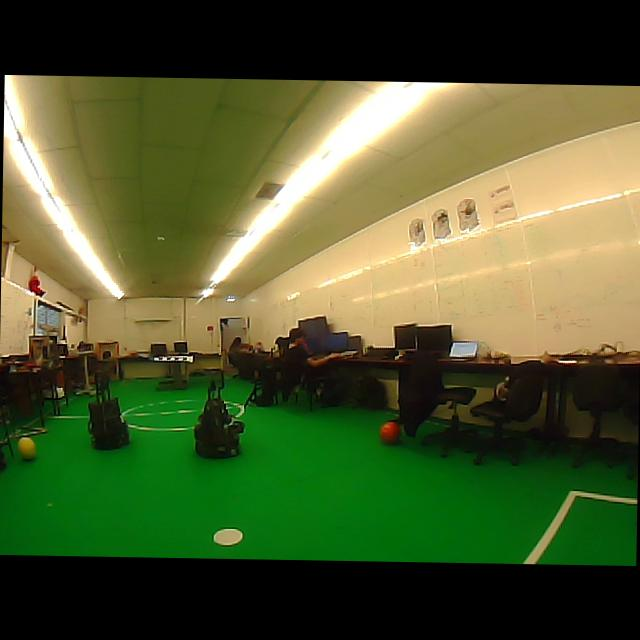ball: (379, 421, 401, 444), (18, 436, 36, 460)
robot: (194, 381, 244, 457), (87, 371, 129, 448)
